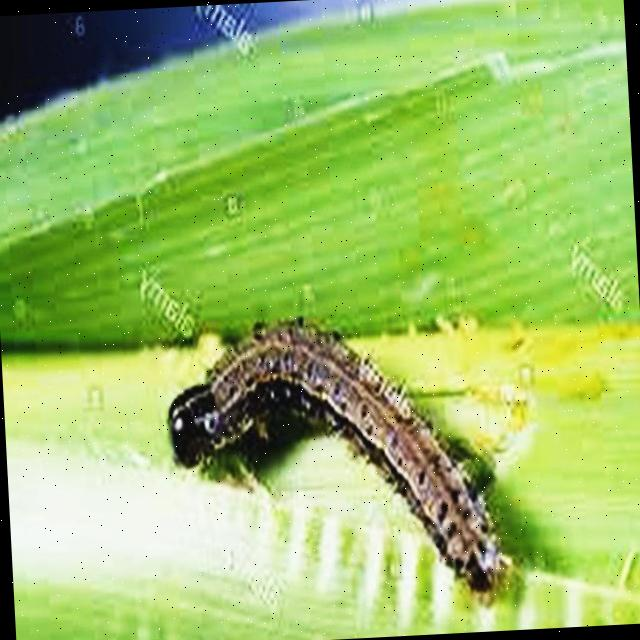worm: (164, 303, 518, 616)
